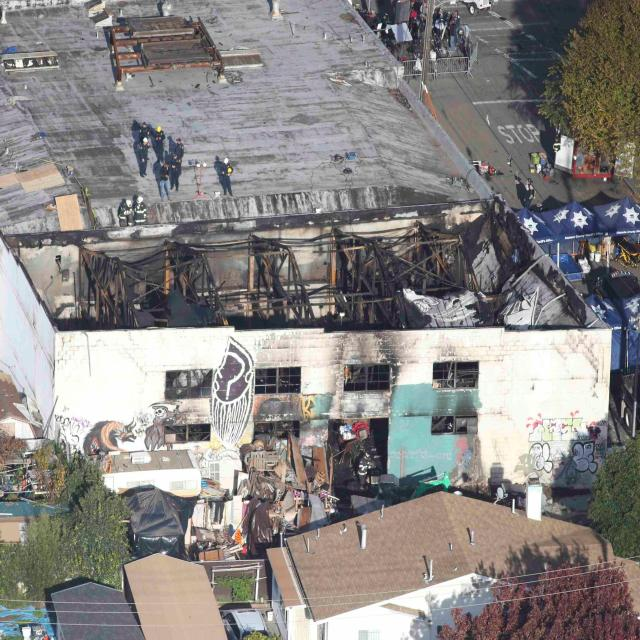collapsed_building: (3, 223, 610, 525)
